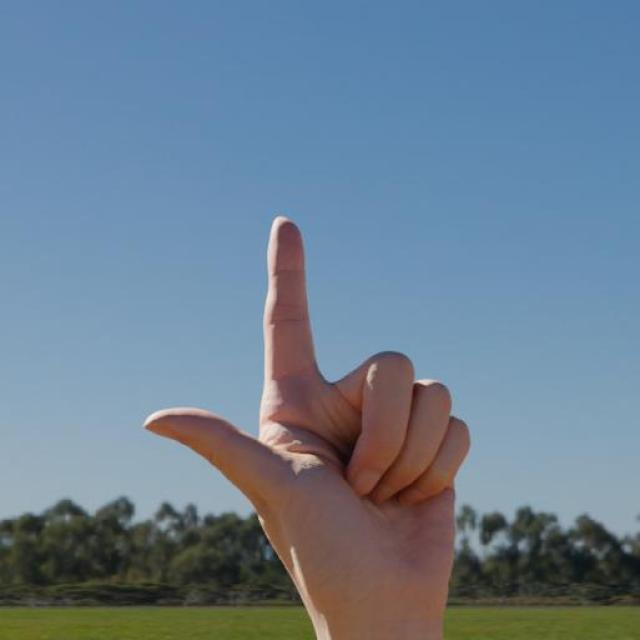L: (138, 212, 473, 636)
